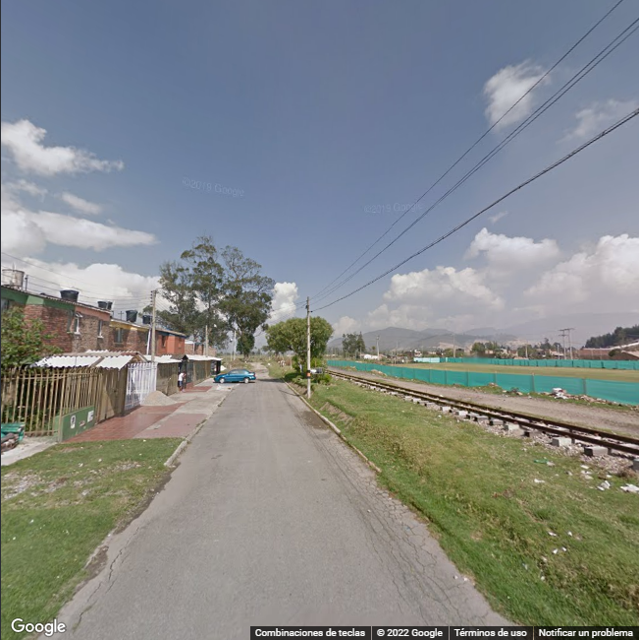D00: (400, 535, 466, 623), (88, 527, 140, 608), (364, 527, 383, 562)
D20: (347, 482, 411, 527)
